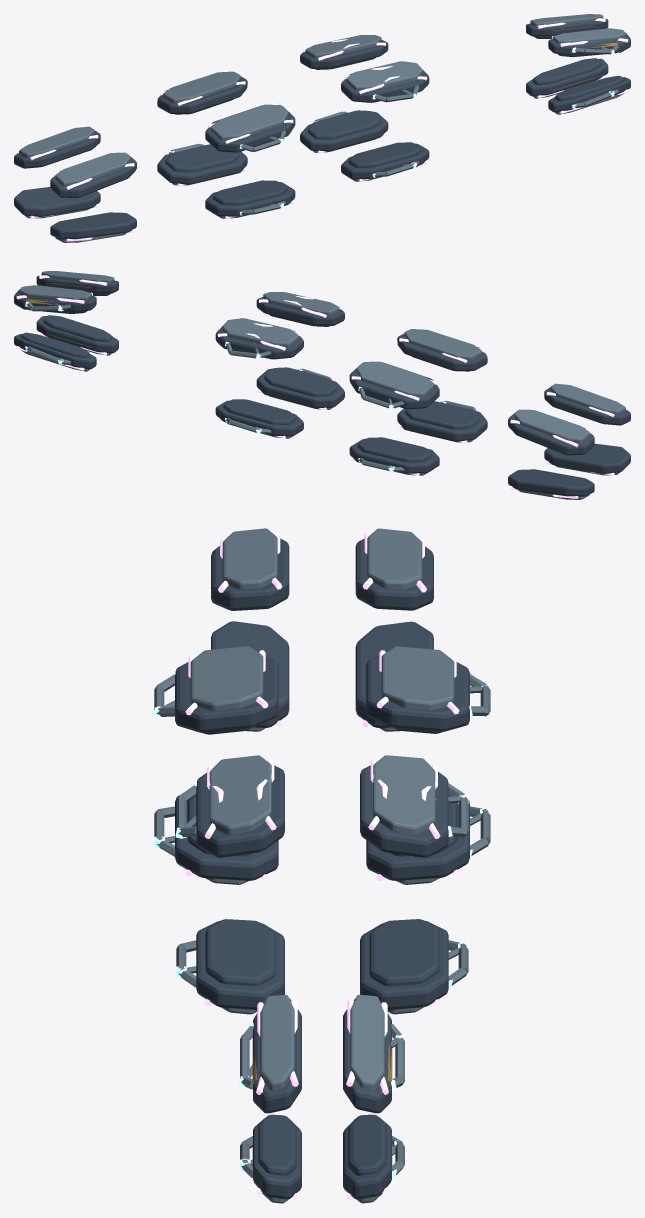
Rendered from plating.glb.
3 renders of one model, top to bottom at view 1: azimuth 30°, elevation 25°; view 2: azimuth 150°, elevation 25°; view 3: azimuth 270°, elevation 25°, orthographic. The views are drawn at different scales.
Parts seen in each view (by area): view 1: p_heavy Fitting gunmetal, p_heavy Brushed fitting edges, p_aegis Fitting gunmetal, p_light Brushed fitting edges, p_heavy p_heavy emitter, p_reactive Fitting gunmetal; view 2: p_heavy Fitting gunmetal, p_heavy Brushed fitting edges, p_aegis Fitting gunmetal, p_light Brushed fitting edges, p_heavy p_heavy emitter, p_reactive Fitting gunmetal; view 3: p_heavy Fitting gunmetal, p_heavy Brushed fitting edges, p_aegis Fitting gunmetal, p_light Brushed fitting edges, p_heavy p_heavy emitter, p_light p_light emitter.
Boxes of the visible parts, <box> form: p_heavy Fitting gunmetal: <box>14,18,630,239</box>; p_heavy Brushed fitting edges: <box>19,14,625,242</box>; p_aegis Fitting gunmetal: <box>165,36,623,204</box>; p_light Brushed fitting edges: <box>169,45,618,214</box>; p_heavy p_heavy emitter: <box>17,18,628,241</box>; p_reactive Fitting gunmetal: <box>195,54,613,203</box>; p_heavy Fitting gunmetal: <box>14,275,630,496</box>; p_heavy Brushed fitting edges: <box>19,271,625,499</box>; p_aegis Fitting gunmetal: <box>21,293,479,461</box>; p_light Brushed fitting edges: <box>26,301,475,471</box>; p_heavy p_heavy emitter: <box>16,275,627,498</box>; p_reactive Fitting gunmetal: <box>31,311,449,460</box>; p_heavy Fitting gunmetal: <box>175,538,469,1199</box>; p_heavy Brushed fitting edges: <box>190,528,454,1203</box>; p_aegis Fitting gunmetal: <box>187,728,457,1175</box>; p_light Brushed fitting edges: <box>154,674,490,1177</box>; p_heavy p_heavy emitter: <box>185,532,459,1200</box>; p_light p_light emitter: <box>153,672,491,1179</box>.
Size of the model in its own units: 46.2 by 7.68 by 11.64.
